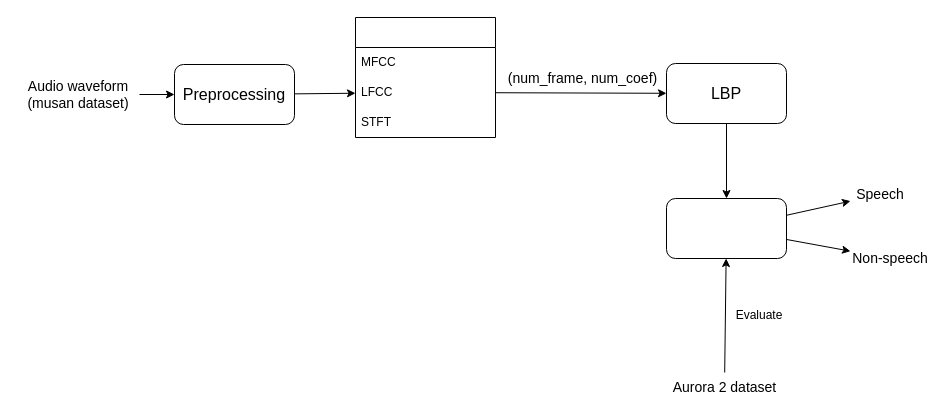
This 947x420 diagram has some shape labels left out. Each missing label, with the box of its shape:
Classifier: (666, 198, 786, 258)
Feature Extraction: (354, 16, 496, 138)
